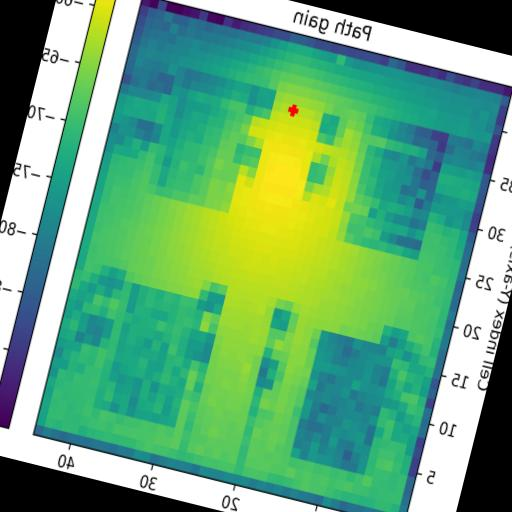Concrete: (146, 66, 260, 215)
Glass: (343, 114, 450, 260)
Metal: (92, 281, 206, 428)
Wood: (289, 330, 396, 476)
